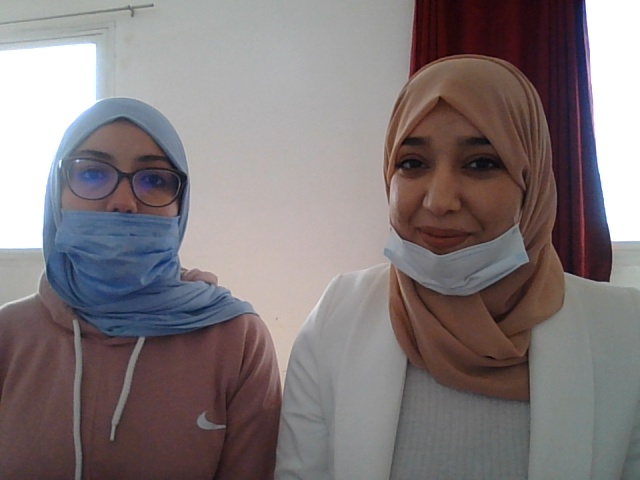mask_weared_incorrect: (365, 66, 535, 302), (55, 103, 185, 320)
